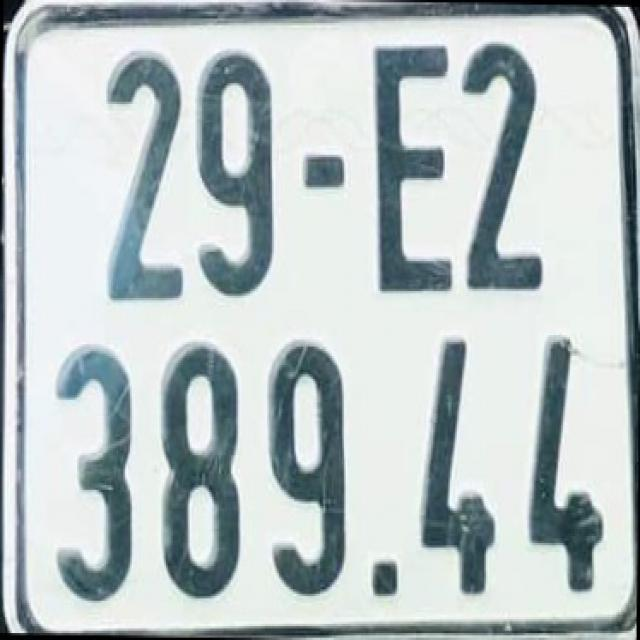2: (460, 32, 553, 298), (97, 46, 190, 308)
3: (48, 334, 139, 606)
4: (407, 326, 505, 600), (520, 324, 611, 598)
8: (154, 332, 248, 604)
9: (258, 330, 358, 601), (190, 44, 284, 303)
E: (362, 27, 456, 300)
